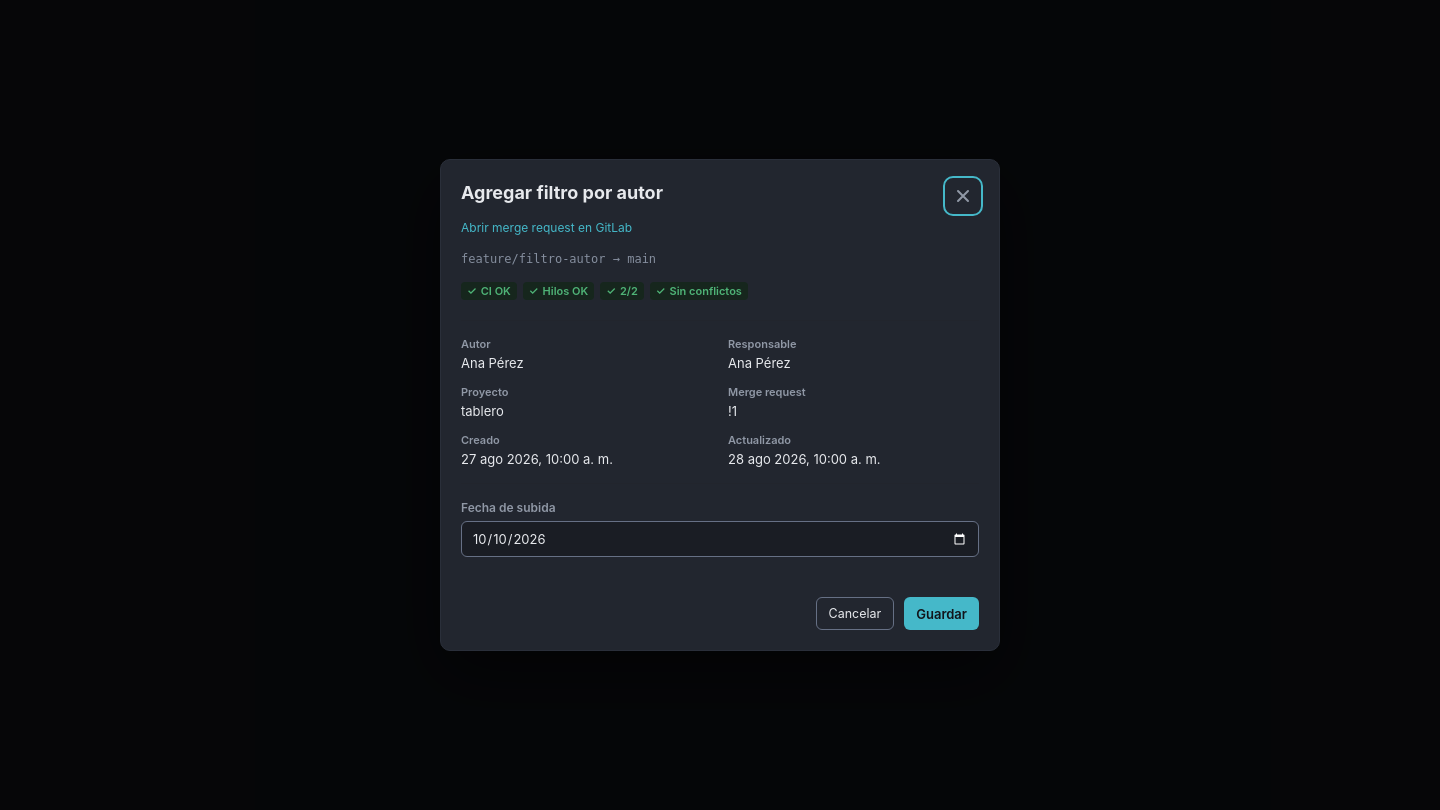
MrDetailModal › mantiene el modal abierto e informa si el guardado falla
The image size is (1440, 810).
Type "2026-10-15" into the date field labelled "Fecha de subida" at point(720, 539), box x1=461 y1=521 x2=979 y2=557
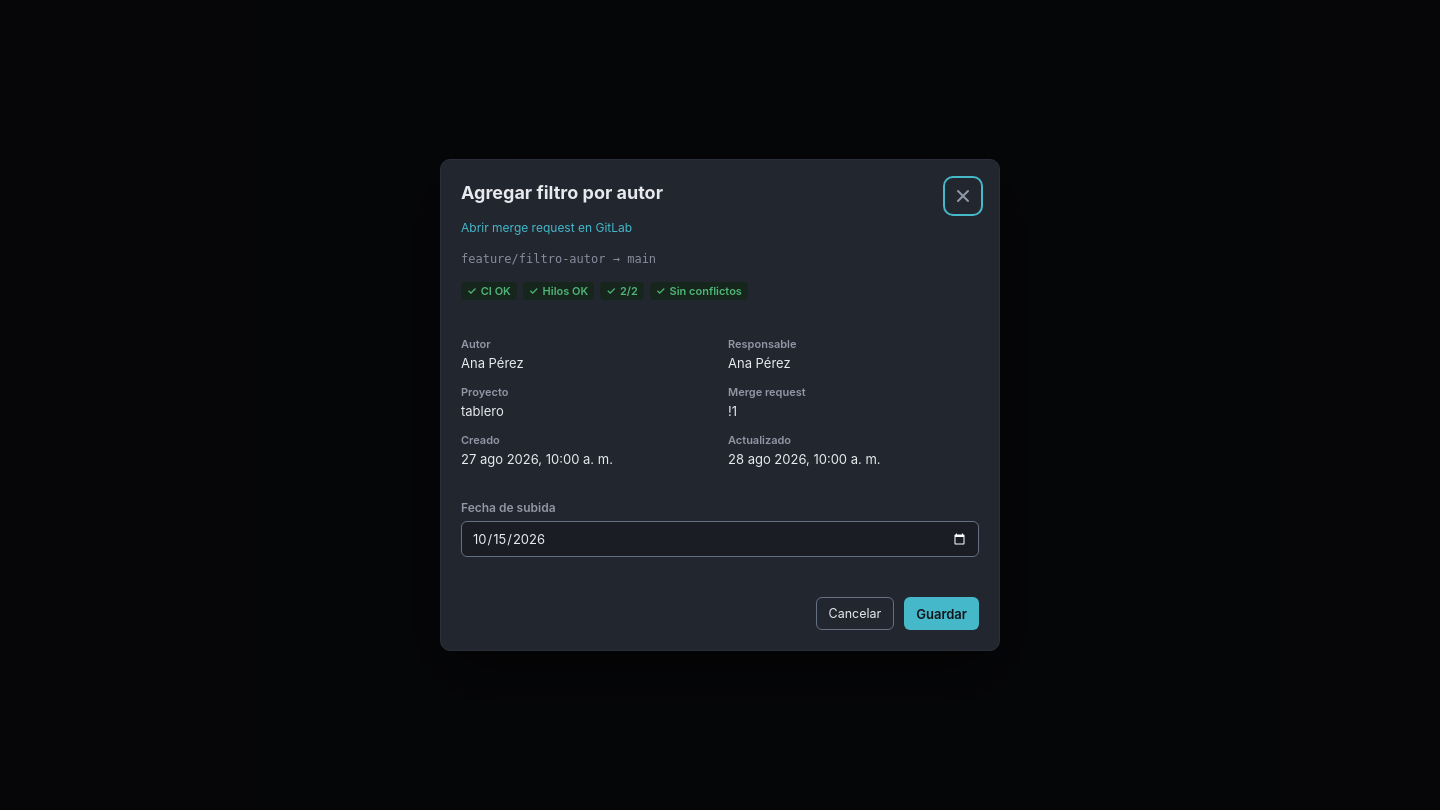
Click the button "Guardar" at point(942, 614), box x1=904 y1=597 x2=979 y2=630
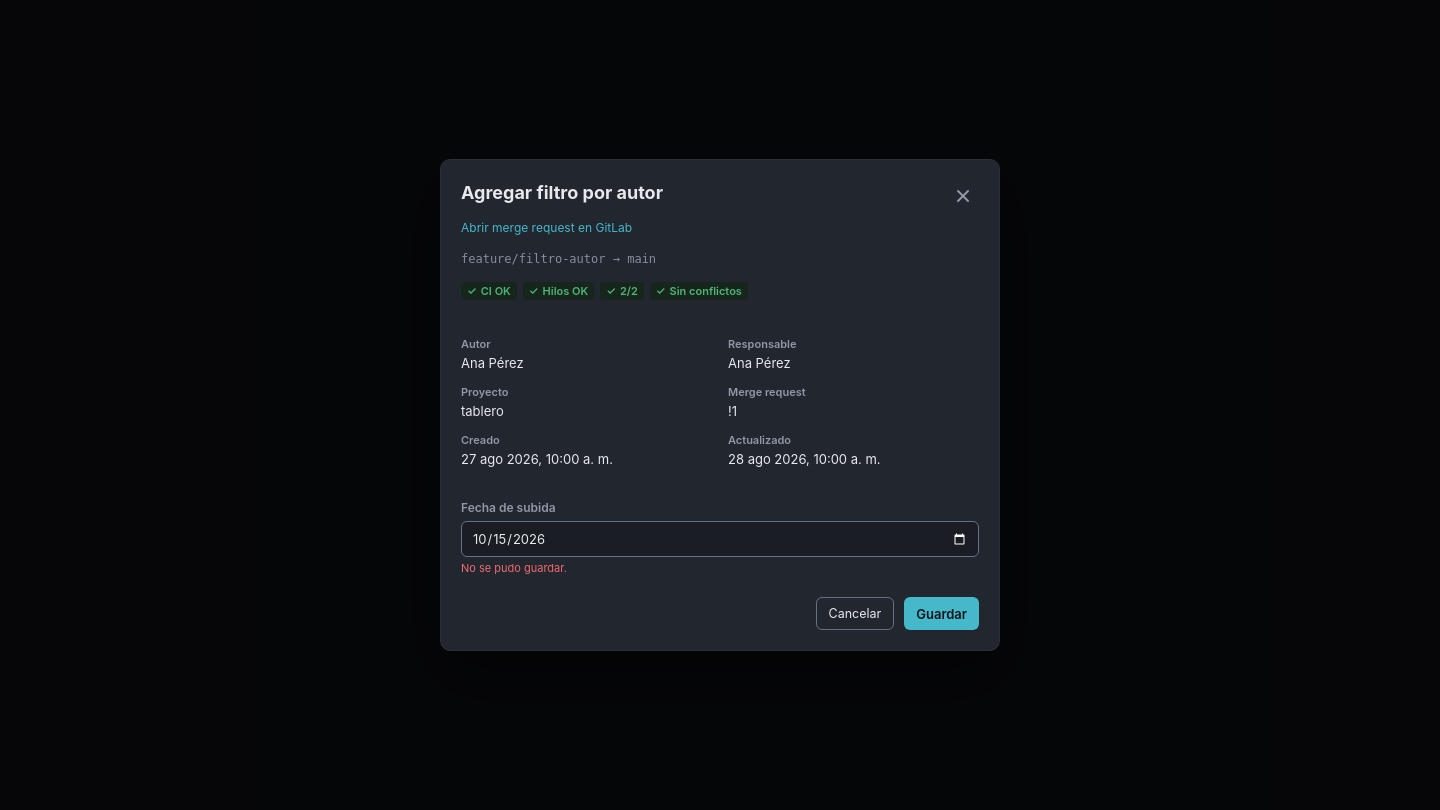
Expected: the dialog is shown, x1=440 y1=159 x2=1000 y2=651
Result: the message reads "No se pudo guardar." at x1=461 y1=561 x2=567 y2=575
